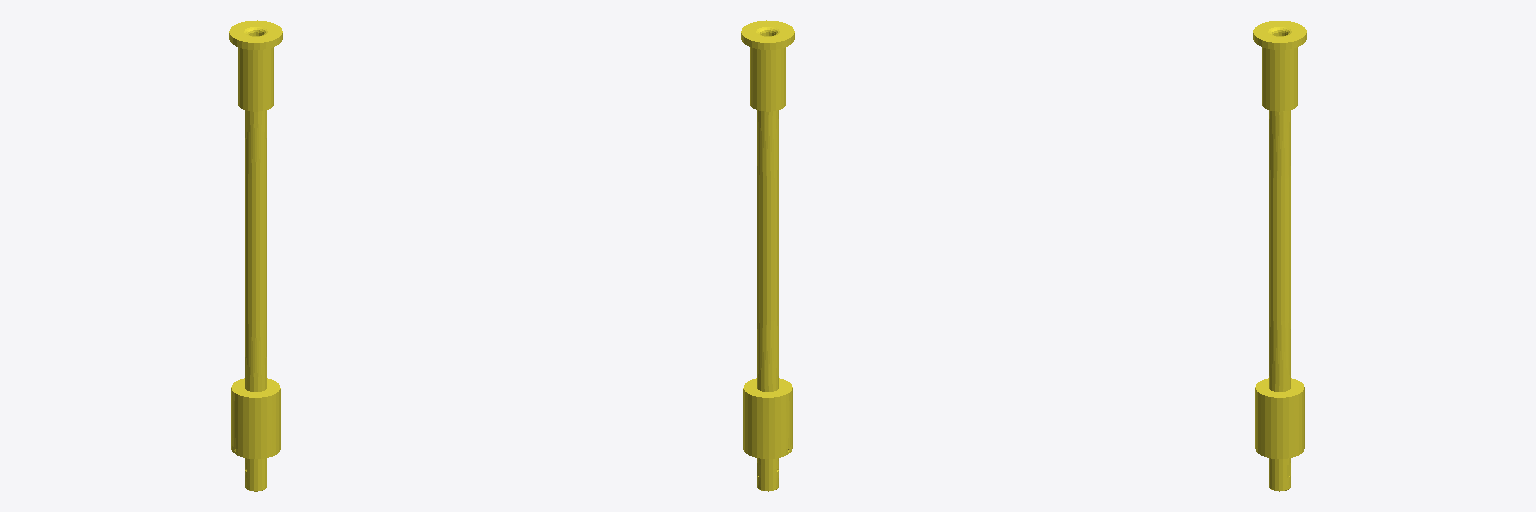
The robot description file, URDF, robot "IRB910INV_350":
<?xml version="1.0" ?>
<robot name="IRB910INV_350">

<link name="base_link">
  <inertial>
    <origin xyz="-0.03428217335737813 -2.4667588020476706e-07 0.08971070325608167" rpy="0 0 0"/>
    <mass value="47.926347738289834"/>
    <inertia ixx="0.305149" iyy="0.354553" izz="0.217137" ixy="-4e-06" iyz="9.8e-05" ixz="0.004008"/>
  </inertial>
  <visual>
    <origin xyz="0 0 0" rpy="0 0 0"/>
    <geometry>
      <mesh filename="meshes/base_link.stl" scale="0.001 0.001 0.001"/>
    </geometry>
  </visual>
  <collision>
    <origin xyz="0 0 0" rpy="0 0 0"/>
    <geometry>
      <mesh filename="meshes/base_link.stl" scale="0.001 0.001 0.001"/>
    </geometry>
  </collision>
</link>

<link name="link_1">
  <inertial>
    <origin xyz="0.11275513176109886 1.7513838112814044e-05 -0.0951509538380555" rpy="0 0 0"/>
    <mass value="33.86232074637399"/>
    <inertia ixx="0.142639" iyy="0.278472" izz="0.206182" ixy="2.3e-05" iyz="-2.8e-05" ixz="0.067431"/>
  </inertial>
  <visual>
    <origin xyz="-0.0 -4e-06 0.0225" rpy="0 0 0"/>
    <geometry>
      <mesh filename="meshes/link_1.stl" scale="0.001 0.001 0.001"/>
    </geometry>
  </visual>
  <collision>
    <origin xyz="-0.0 -4e-06 0.0225" rpy="0 0 0"/>
    <geometry>
      <mesh filename="meshes/link_1.stl" scale="0.001 0.001 0.001"/>
    </geometry>
  </collision>
</link>

<link name="link_2">
  <inertial>
    <origin xyz="-0.07748210763311644 2.4149022072988045e-05 -0.08074925775211947" rpy="0 0 0"/>
    <mass value="36.19533232147432"/>
    <inertia ixx="0.105427" iyy="0.262885" izz="0.242365" ixy="-1e-06" iyz="-3.7e-05" ixz="-0.014601"/>
  </inertial>
  <visual>
    <origin xyz="-0.174731 0.0 0.228" rpy="0 0 0"/>
    <geometry>
      <mesh filename="meshes/link_2.stl" scale="0.001 0.001 0.001"/>
    </geometry>
  </visual>
  <collision>
    <origin xyz="-0.174731 0.0 0.228" rpy="0 0 0"/>
    <geometry>
      <mesh filename="meshes/link_2.stl" scale="0.001 0.001 0.001"/>
    </geometry>
  </collision>
</link>

<link name="link_3">
  <inertial>
    <origin xyz="2.217347784446274e-06 -6.636237422544021e-06 -0.13387670086396194" rpy="0 0 0"/>
    <mass value="0.7548467951787753"/>
    <inertia ixx="0.011663" iyy="0.011663" izz="9.1e-05" ixy="0.0" iyz="-0.0" ixz="0.0"/>
  </inertial>
  <visual>
    <origin xyz="0.0 -7e-06 0.158" rpy="0 0 0"/>
    <geometry>
      <mesh filename="meshes/link_3.stl" scale="0.001 0.001 0.001"/>
    </geometry>
  </visual>
  <collision>
    <origin xyz="0.0 -7e-06 0.158" rpy="0 0 0"/>
    <geometry>
      <mesh filename="meshes/link_3.stl" scale="0.001 0.001 0.001"/>
    </geometry>
  </collision>
</link>

<joint name="joint_1" type="revolute">
  <origin xyz="0.0 4e-06 -0.0225" rpy="0 0 0"/>
  <parent link="base_link"/>
  <child link="link_1"/>
  <axis xyz="0.0 0.0 -1.0"/>
  <limit lower="-2.61799" upper="2.61799" effort="0.0" velocity="0.0"/>
</joint>

<joint name="joint_2" type="revolute">
  <origin xyz="0.174731 -4e-06 -0.2055" rpy="0 0 0"/>
  <parent link="link_1"/>
  <child link="link_2"/>
  <axis xyz="0.0 0.0 -1.0"/>
  <limit lower="-2.53073" upper="2.53073" effort="0.0" velocity="0.0"/>
</joint>

<joint name="joint_3" type="prismatic">
  <origin xyz="-0.174731 7e-06 0.07" rpy="0 0 0"/>
  <parent link="link_2"/>
  <child link="link_3"/>
  <axis xyz="0.0 0.0 1.0"/>
  <limit upper="0.145" lower="0.0" effort="100" velocity="100"/>
</joint>

<transmission name="joint_1_tran">
  <type>transmission_interface/SimpleTransmission</type>
  <joint name="joint_1">
    <hardwareInterface>hardware_interface/EffortJointInterface</hardwareInterface>
  </joint>
  <actuator name="joint_1_actr">
    <hardwareInterface>hardware_interface/EffortJointInterface</hardwareInterface>
    <mechanicalReduction>1</mechanicalReduction>
  </actuator>
</transmission>

<transmission name="joint_2_tran">
  <type>transmission_interface/SimpleTransmission</type>
  <joint name="joint_2">
    <hardwareInterface>hardware_interface/EffortJointInterface</hardwareInterface>
  </joint>
  <actuator name="joint_2_actr">
    <hardwareInterface>hardware_interface/EffortJointInterface</hardwareInterface>
    <mechanicalReduction>1</mechanicalReduction>
  </actuator>
</transmission>

<transmission name="joint_3_tran">
  <type>transmission_interface/SimpleTransmission</type>
  <joint name="joint_3">
    <hardwareInterface>hardware_interface/EffortJointInterface</hardwareInterface>
  </joint>
  <actuator name="joint_3_actr">
    <hardwareInterface>hardware_interface/EffortJointInterface</hardwareInterface>
    <mechanicalReduction>1</mechanicalReduction>
  </actuator>
</transmission>

<joint name="joint_4" type="revolute">
  <origin xyz="0 0 0" rpy="0 0 0"/>
  <parent link="link_3"/>
  <child link="flange"/>
  <axis xyz="0.0 0.0 1.0"/>
  <limit lower="-6.98132" upper="6.98132" effort="0.0" velocity="0.0"/>
</joint>

<link name="flange">
  <inertial>
    <origin xyz="0 0 0" rpy="0 0 0"/>
    <mass value="0.1"/>
    <inertia ixx="0.0001" iyy="0.0001" izz="0.0001" ixy="0" iyz="0" ixz="0"/>
  </inertial>
</link>

<link name="tool0">
  <inertial>
    <origin xyz="0 0 0" rpy="0 0 0"/>
    <mass value="0.01"/>
    <inertia ixx="0.00001" iyy="0.00001" izz="0.00001" ixy="0" iyz="0" ixz="0"/>
  </inertial>
</link>

<joint name="joint_tool0" type="fixed">
  <origin xyz="0 0 0" rpy="0 0 0"/>
  <parent link="flange"/>
  <child link="tool0"/>
</joint>

</robot>

--- Render facts (derived) ---
Views: 3 orthographic renders of the robot side by side, from view 1: azimuth 30°, elevation 25°; view 2: azimuth 150°, elevation 25°; view 3: azimuth 270°, elevation 25°.
Model IRB910INV_350 with 6 links and 5 joints (3 revolute, 1 prismatic, 1 fixed), rooted at base_link, posed all joints at 0.
Visible links, largest first — view 1: link_3; view 2: link_3; view 3: link_3.
Boxes of the visible links, x1=… form: link_3: x1=229, y1=20, x2=282, y2=491; link_3: x1=741, y1=20, x2=794, y2=491; link_3: x1=1253, y1=21, x2=1306, y2=491.
Size in the robot's own frame: 0.038 by 0.0377 by 0.3565 metres.
Meshes: 4 distinct files referenced, 1 mesh visuals loaded (1 binary STL); not drawn: 3 (reference not matched to a file when rendering).